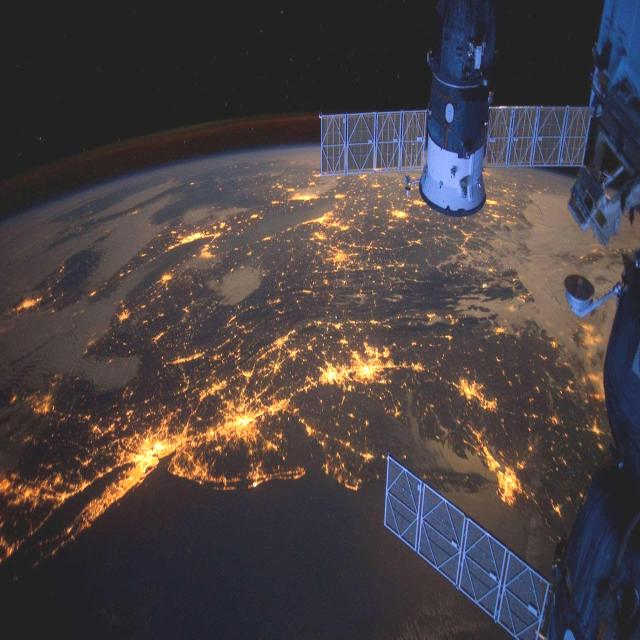medium_debris: (310, 5, 640, 640)
